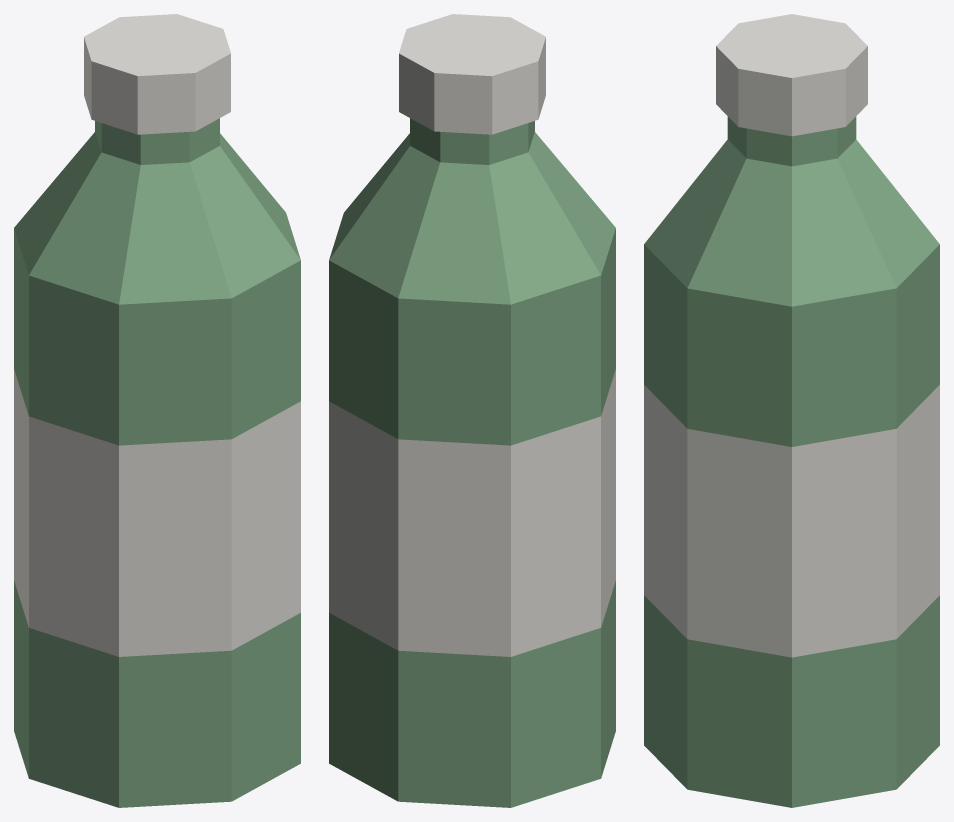
Rendered from cleaner2.glb.
3 renders of one model, left to right at view 1: azimuth 30°, elevation 25°; view 2: azimuth 150°, elevation 25°; view 3: azimuth 270°, elevation 25°, orthographic.
Parts seen in each view (by area): view 1: NC_cleaner2; view 2: NC_cleaner2; view 3: NC_cleaner2.
Part boxes in pixels (<box>): NC_cleaner2: <box>14,14,300,807</box>; NC_cleaner2: <box>329,14,615,807</box>; NC_cleaner2: <box>644,14,939,807</box>.
Size of the model in its own units: 0.092 by 0.24 by 0.092.
